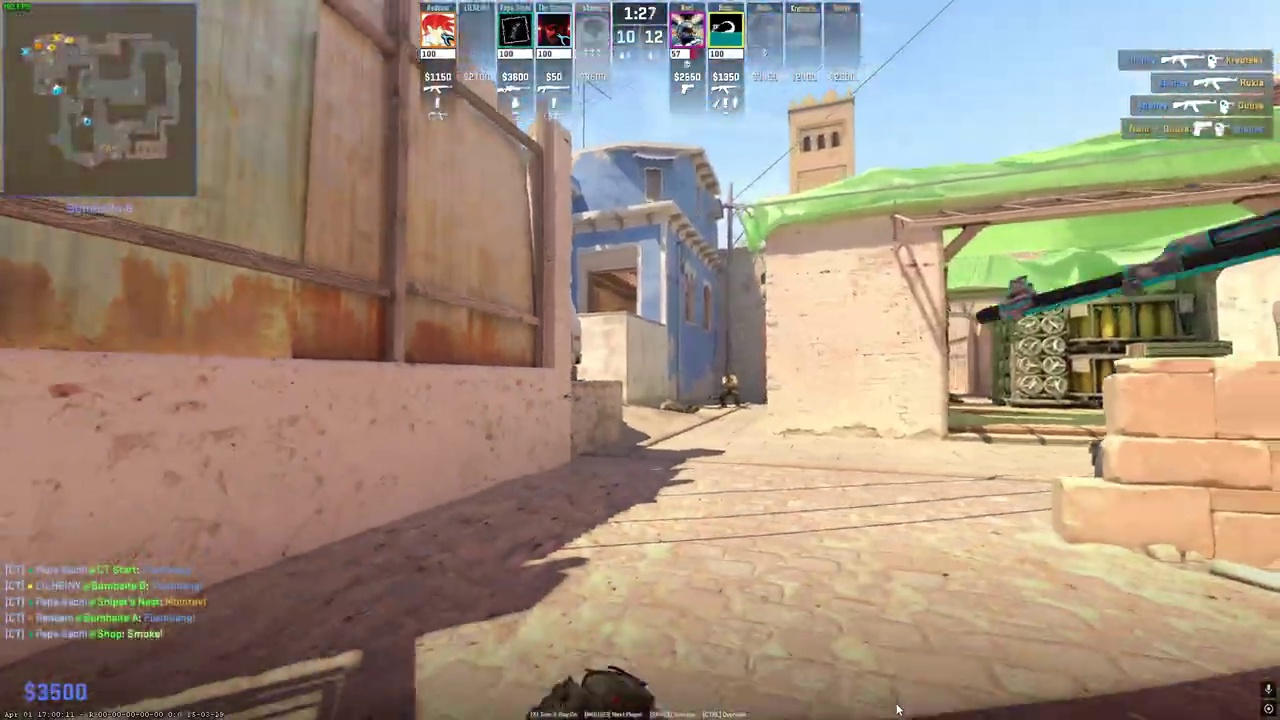Terrorist: (719, 372, 740, 408)
